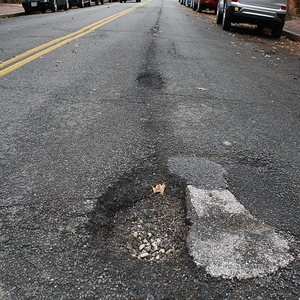pothole: (86, 162, 193, 271), (136, 70, 163, 91)
